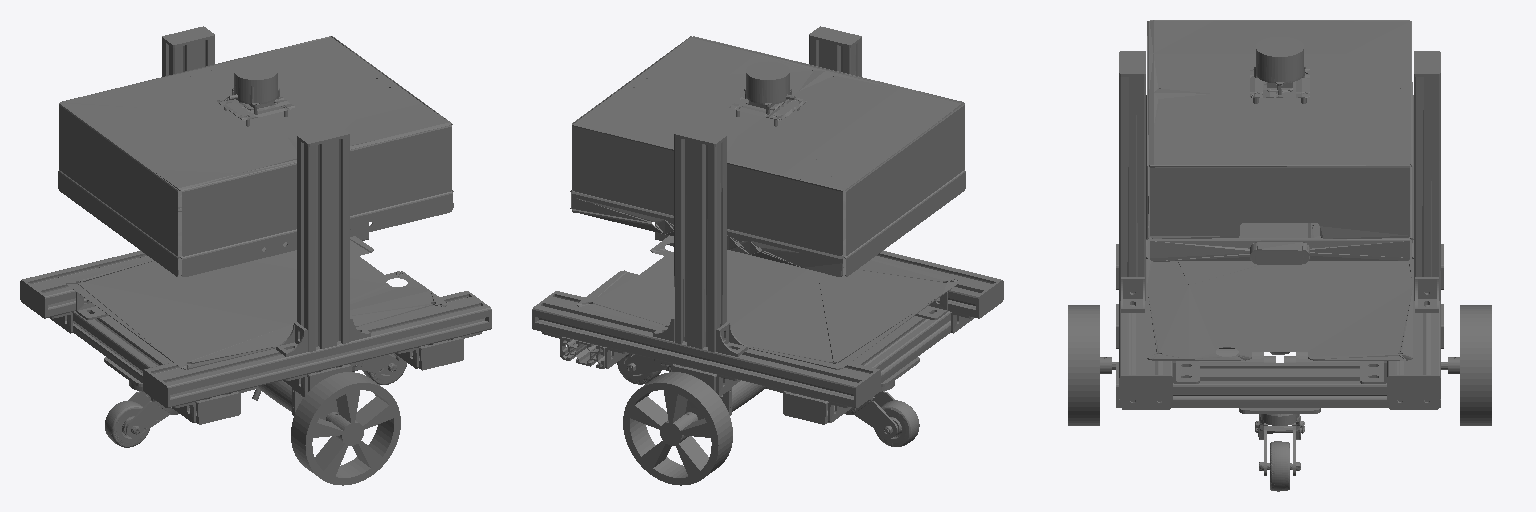
The robot description file, URDF, robot "stella":
<?xml version="1.0" ?>
<robot name="stella" xmlns:xacro="http://ros.org/wiki/xacro">

  <!-- Init colour -->
  <material name="black">
      <color rgba="0.0 0.0 0.0 1.0"/>
  </material>

  <material name="dark">
    <color rgba="0.3 0.3 0.3 1.0"/>
  </material>

  <material name="light_black">
    <color rgba="0.4 0.4 0.4 1.0"/>
  </material>

  <material name="blue">
    <color rgba="0.0 0.0 0.8 1.0"/>
  </material>

  <material name="green">
    <color rgba="0.0 0.8 0.0 1.0"/>
  </material>

  <material name="grey">
    <color rgba="0.5 0.5 0.5 1.0"/>
  </material>

  <material name="orange">
    <color rgba="1.0 0.4235 0.0392 1.0"/>
  </material>

  <material name="brown">
    <color rgba="0.8706 0.8118 0.7647 1.0"/>
  </material>

  <material name="red">
    <color rgba="0.8 0.0 0.0 1.0"/>
  </material>

  <material name="white">
    <color rgba="1.0 1.0 1.0 1.0"/>
  </material>

<!-- 로봇 크기 정의
  - 중앙 - 앞 : 0.305 , 중앙 - 뒤 : 0.305
  - 중앙 - 앞(depth 카메라) : 0.33505 , 중앙 - 뒤 : 0.305
  - 양옆 길이 : 0.6345
  - 로봇 높이 : 0.6158
  - G6 라이다 : x -> 0 , y -> 0 , z -> 0.6055
  - depth 카메라 : x -> 0.33505 , y -> 0 , z -> 0.4255
  - ahrs : x -> 0 , y -> 0 , z -> 0.42
-->


  <link name="base_footprint"/>

  <joint name="base_joint" type="fixed">
    <parent link="base_footprint"/>
    <child link="base_link" />
    <!-- 바퀴 의 위치(앞뒤 위치 완료) -->
    <origin xyz="0.0 0.0 0.0" rpy="0.0 0.0 0.0"/>
  </joint>

  <link name="base_link">
    <visual>
      <!-- 로봇 동작과 함께 설정 필요 -->
      <!-- <origin xyz="0.0 0.0 0.0" rpy="1.570796327 0.0 1.570796327"/> -->
      <origin xyz="-0.46 -0.3077 0.0" rpy="0.0 0.0 0.0"/>
      <geometry>
        <!-- 설정 완료( sunny ) -->
        <!-- 로봇 동작과 함께 설정 필요 -->
        <mesh filename="package://stella_description/meshes/bases/sunny_robot_first.STL" scale="0.001 0.001 0.001"/>
      </geometry>
      <material name="grey"/>
    </visual>
    <!-- 설정 완료( sunny ) -->
    <collision>
      <!-- 로봇 동작과 함께 설정 필요 -->
      <origin xyz="0.0 0.0 0.3079" rpy="0.0 0.0 0.0"/>
      <geometry>
      <!-- size="앞뒤길이 양옆길이 높이" -->
        <box size="0.61 0.6345 0.6158"/>
      </geometry>
    </collision>
    
    <inertial>
    <!-- 설정 완료( sunny ) -->
      <origin xyz="0.0 0.0 0.3079" rpy="0.0 0.0 0.0"/>
    <!-- 로봇의 무게(kg) - 추후 재작업 -->
      <mass value="20.0"/>
      <inertia ixx="0.858696666666667" ixy="0.0" ixz="0.0"
               iyy="0.483428021858347" iyz="0.0"
               izz="0.694696666666667" />
    </inertial>
  </link>

<!-- ahrs 센서 위치 ( 완료 - sunny ) -->
  <joint name="imu_joint" type="fixed">
    <parent link="base_link"/>
    <child link="imu_link"/>
    <origin xyz="0.0 0.0 0.42" rpy="0.0 0.0 0.0"/>
  </joint>

  <link name="imu_link"/>

<!-- 최상단 G6 라이다 위치 ( 완료 - sunny ) -->
  <joint name="scan_joint" type="fixed">
    <parent link="base_link"/>
    <child link="base_scan"/>
    <origin xyz="0.0 0.0 0.6055" rpy="0.0 0.0 0.0"/>
  </joint>

  <link name="base_scan" />

<!-- depth 카메라 위치 ( 완료 - sunny ) -->
  <joint name="floor_2_joint" type="fixed">
    <parent link="base_link"/>
    <child link="floor_2_scan"/>
    <origin xyz="0.33505 0.0 0.4255" rpy="0.0 0.0 0.0"/>
  </joint>

  <link name="floor_2_scan" />

</robot>

--- Facts derived from the render (not from the file) ---
The picture shows the robot from 3 angles, left to right: view 1: azimuth 30°, elevation 25°; view 2: azimuth 150°, elevation 25°; view 3: azimuth 270°, elevation 25°; orthographic projection.
Robot: stella — 5 links, 4 joints (4 fixed); root link base_footprint; default pose: every joint at zero.
Visible links, largest first — view 1: base_link; view 2: base_link; view 3: base_link.
Link boxes in pixels (left/top/right/bottom): base_link: left=20, top=26, right=491, bottom=485; base_link: left=532, top=26, right=1003, bottom=485; base_link: left=1068, top=20, right=1491, bottom=491.
Bounding box of the posed robot: 0.0006 × 0.0006 × 0.0006 m (x, y, z).
Meshes: 1 distinct files referenced, 1 mesh visuals loaded (1 binary STL).
